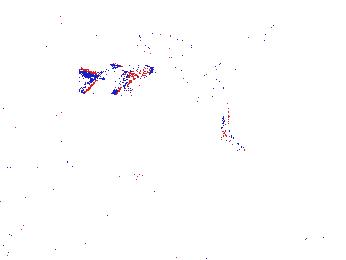glassfish: (198, 68, 237, 147)
red belly glassfish: (196, 108, 216, 117)
redtail glassfish: (132, 31, 232, 93), (163, 19, 293, 65), (80, 63, 154, 94)
